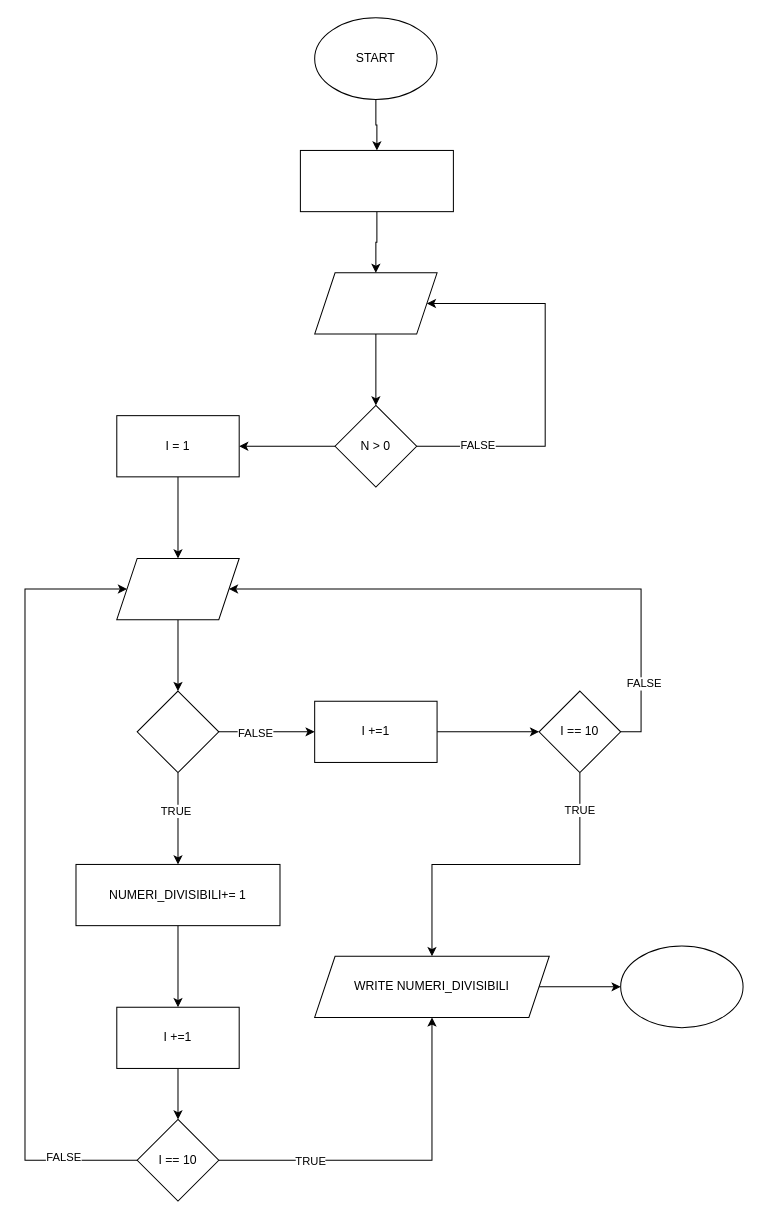
The diagram is 761 pixels wide and 1219 high, and some of its shapes have lost their labels. The box of each missing label's shape, as (x1, y1, x2, y2) in pixels:
END: (620, 945, 743, 1028)
J % N == 0: (136, 690, 219, 773)
NUMERI_DIVISIBILI = 0: (299, 149, 453, 212)
READ J: (116, 557, 239, 620)
READ N: (314, 272, 437, 334)
